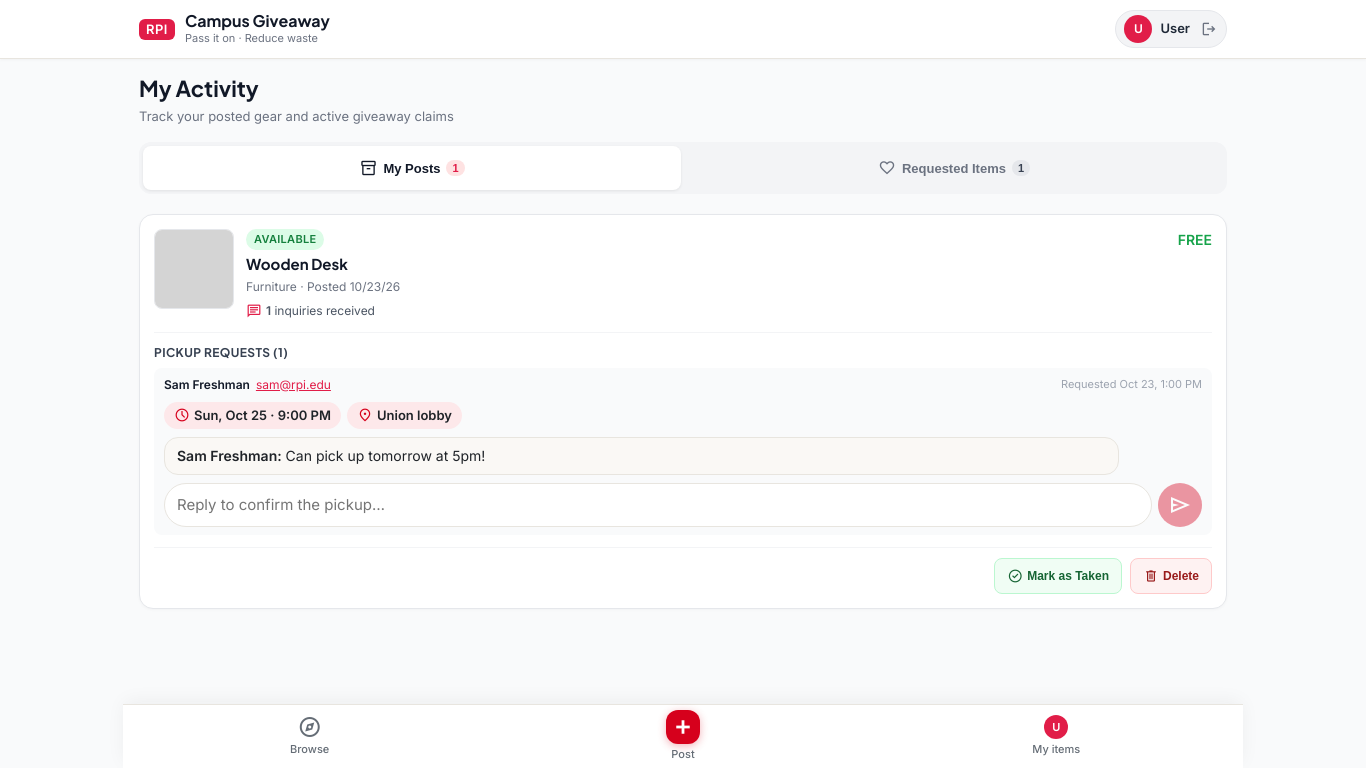
Test: MyActivityComponent › should mark post as taken when action button is clicked
What coordinates should you click on to do the following:
click the button with class "mark-taken-btn"
I would click on:
 (1058, 576)
Its box is [994, 558, 1122, 594].
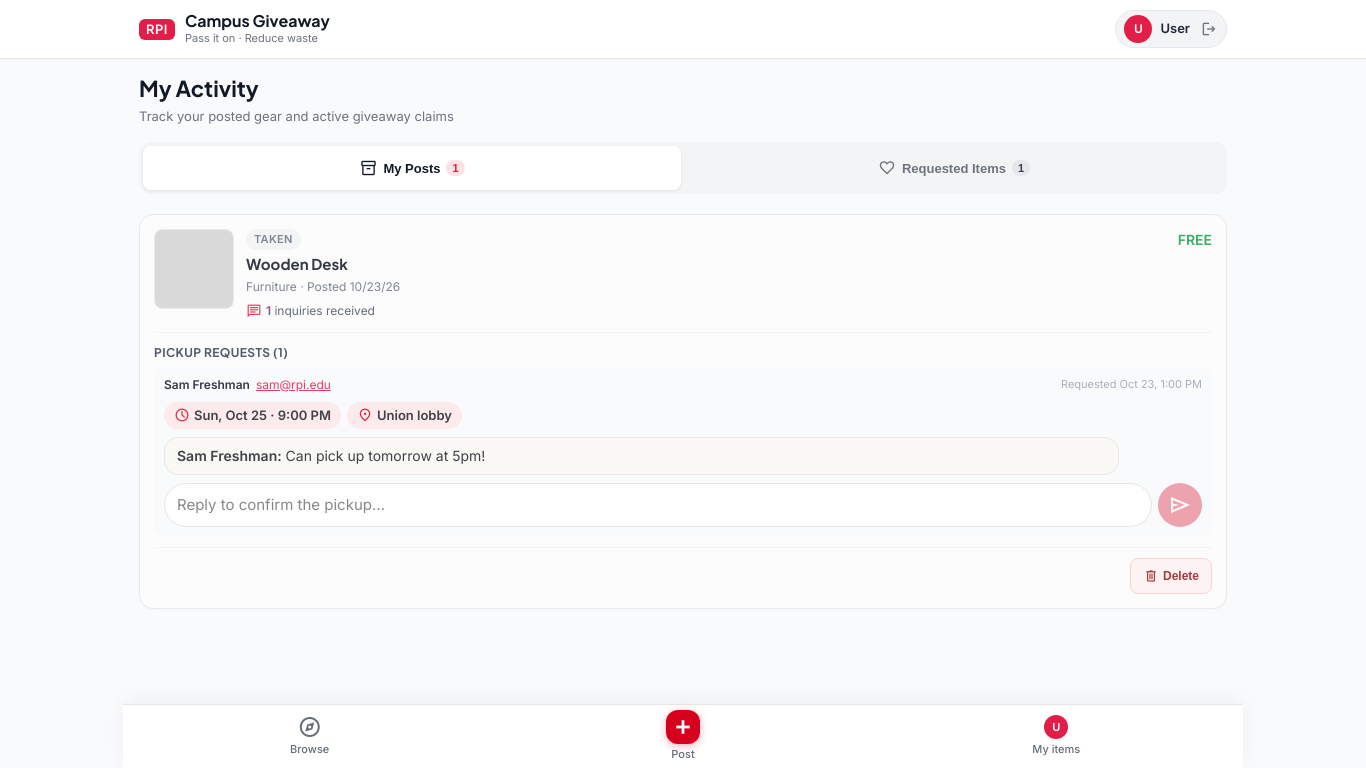
Now the text "TAKEN" is shown, box [246, 229, 301, 250]
